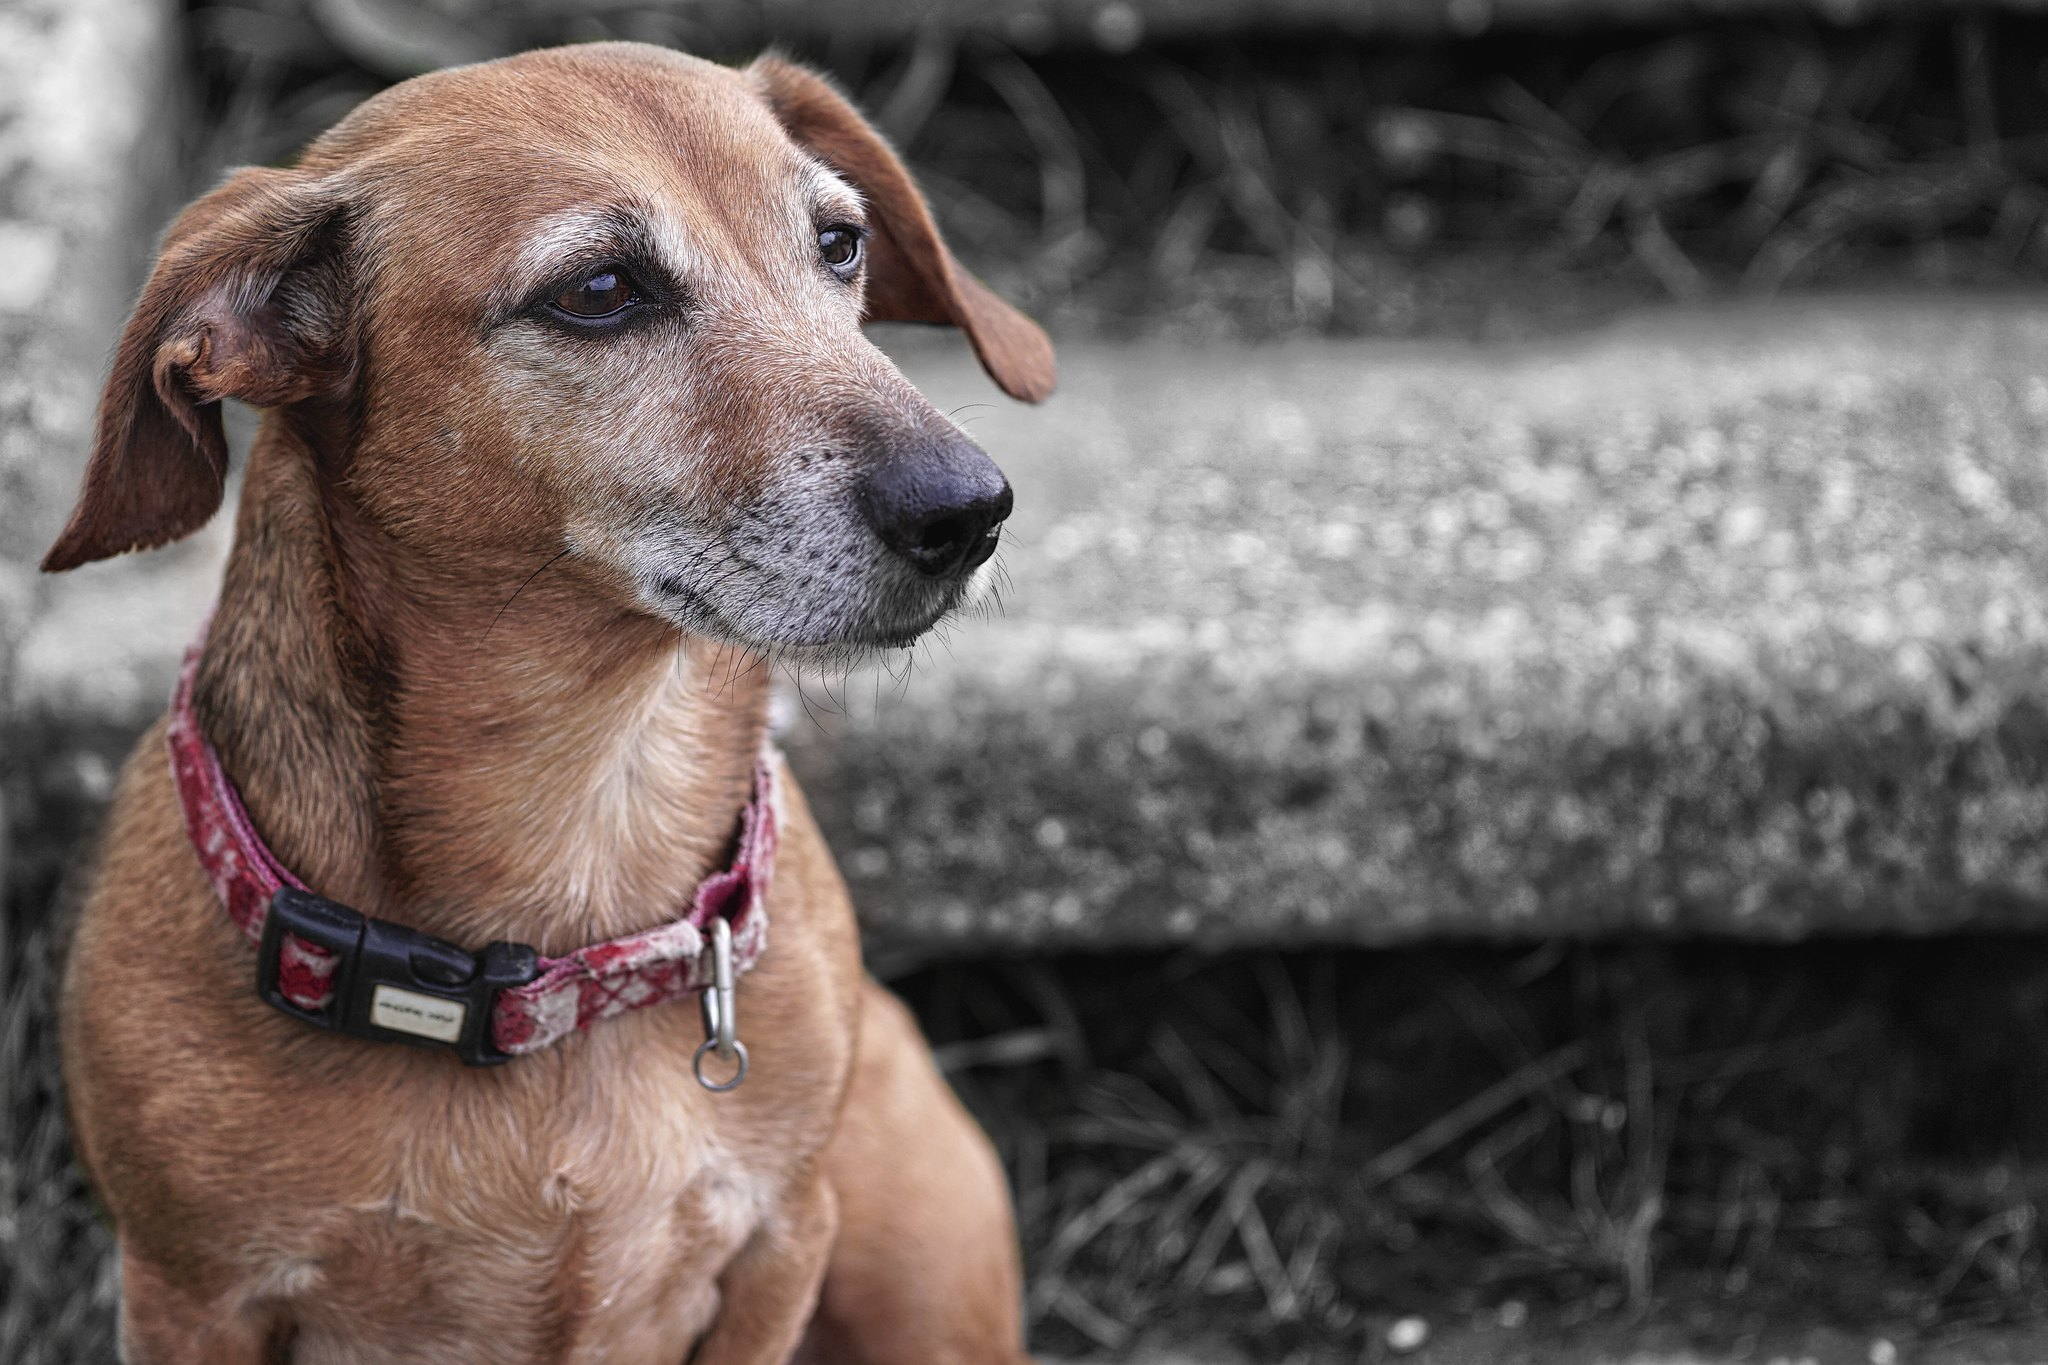dog: (56, 37, 1060, 1362)
